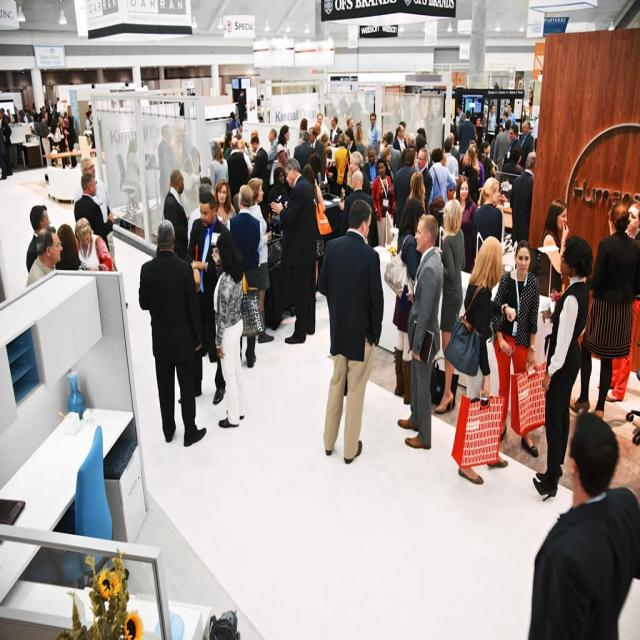body: (527, 407, 640, 640), (442, 230, 518, 486), (532, 234, 594, 503), (321, 198, 383, 464), (138, 218, 208, 448), (569, 202, 639, 422), (393, 210, 446, 452), (174, 189, 232, 406), (100, 91, 204, 208), (489, 238, 542, 458), (593, 201, 640, 406), (383, 196, 428, 407), (270, 157, 319, 346), (210, 228, 250, 429), (187, 190, 231, 361), (0, 100, 94, 179), (224, 182, 263, 371), (434, 198, 466, 415), (202, 91, 280, 166), (246, 175, 275, 346), (301, 162, 333, 289), (534, 196, 572, 302), (80, 156, 116, 262), (433, 196, 461, 332), (73, 171, 115, 252), (368, 156, 398, 266), (470, 175, 506, 264), (338, 169, 379, 247), (427, 147, 457, 250), (186, 176, 223, 252), (509, 150, 537, 248), (163, 167, 191, 261), (162, 167, 190, 260), (454, 174, 479, 276), (25, 225, 64, 288), (73, 215, 114, 271), (24, 204, 54, 278), (226, 136, 253, 216), (392, 147, 417, 229), (226, 138, 253, 207), (247, 134, 270, 204), (310, 154, 345, 196), (499, 144, 524, 199), (54, 222, 82, 271), (344, 150, 372, 197), (415, 146, 434, 215), (492, 116, 512, 181), (206, 139, 230, 193), (333, 131, 352, 199), (461, 145, 481, 205), (442, 136, 460, 200), (292, 130, 318, 174), (214, 180, 237, 229), (267, 166, 291, 212), (456, 108, 476, 163), (404, 168, 427, 214), (463, 144, 485, 188), (502, 122, 522, 168), (365, 111, 382, 164), (477, 140, 497, 184), (379, 146, 395, 197), (384, 130, 402, 174), (308, 125, 326, 168), (443, 131, 461, 174), (276, 124, 292, 172), (399, 130, 417, 170), (520, 120, 534, 170), (459, 139, 478, 175), (364, 144, 381, 182), (490, 123, 506, 161), (327, 113, 344, 147), (312, 112, 331, 140), (486, 103, 498, 147), (323, 146, 335, 185), (351, 122, 365, 155), (393, 124, 408, 154), (501, 102, 517, 130), (455, 103, 466, 143), (266, 127, 278, 163), (343, 126, 358, 154), (414, 133, 427, 157), (393, 120, 407, 142), (298, 117, 308, 145), (450, 112, 458, 146), (474, 128, 485, 151), (417, 127, 428, 148), (318, 130, 332, 145), (499, 111, 510, 129), (474, 114, 486, 130), (528, 89, 534, 120), (314, 120, 322, 140), (438, 154, 448, 168), (346, 116, 354, 130), (382, 133, 388, 145)
